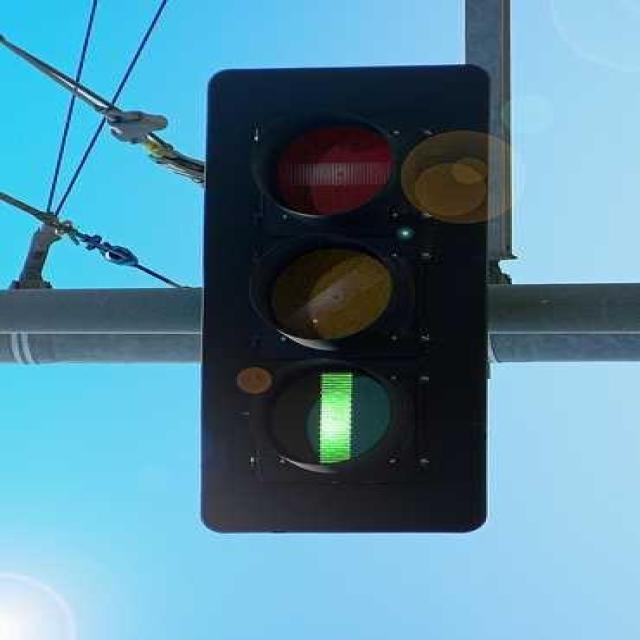Traffic Light -Off-: (232, 85, 432, 488)
